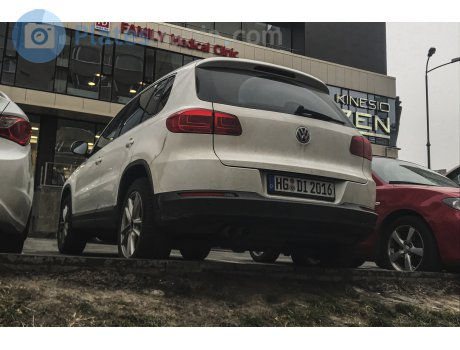License Plates: (280, 179, 330, 192)
